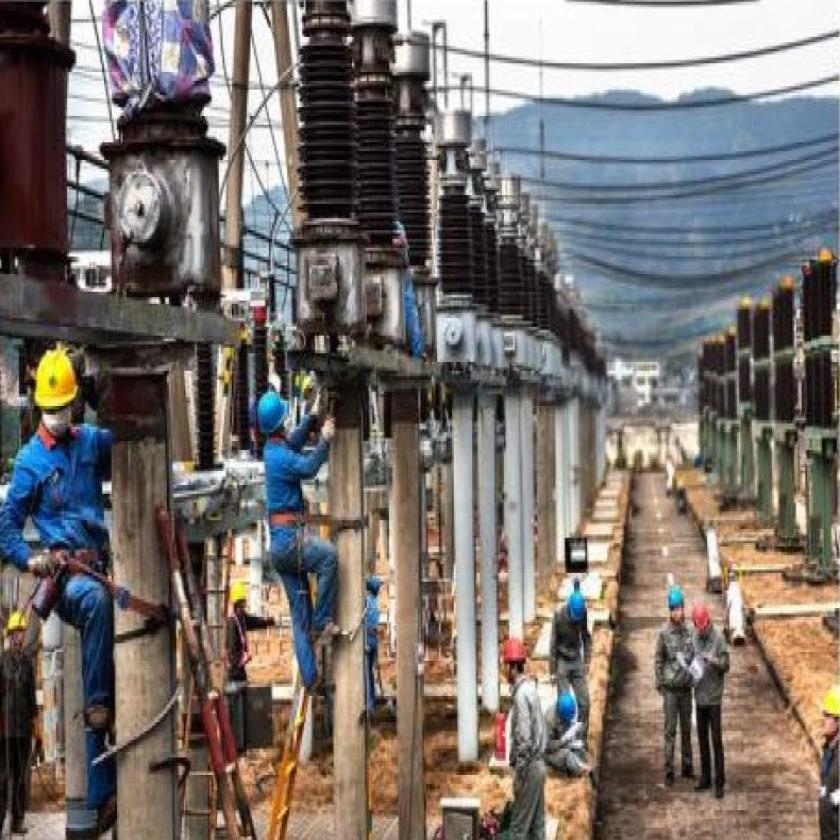Con_casco: (34, 352, 81, 440), (258, 389, 292, 449), (499, 638, 526, 689), (658, 583, 688, 626)
